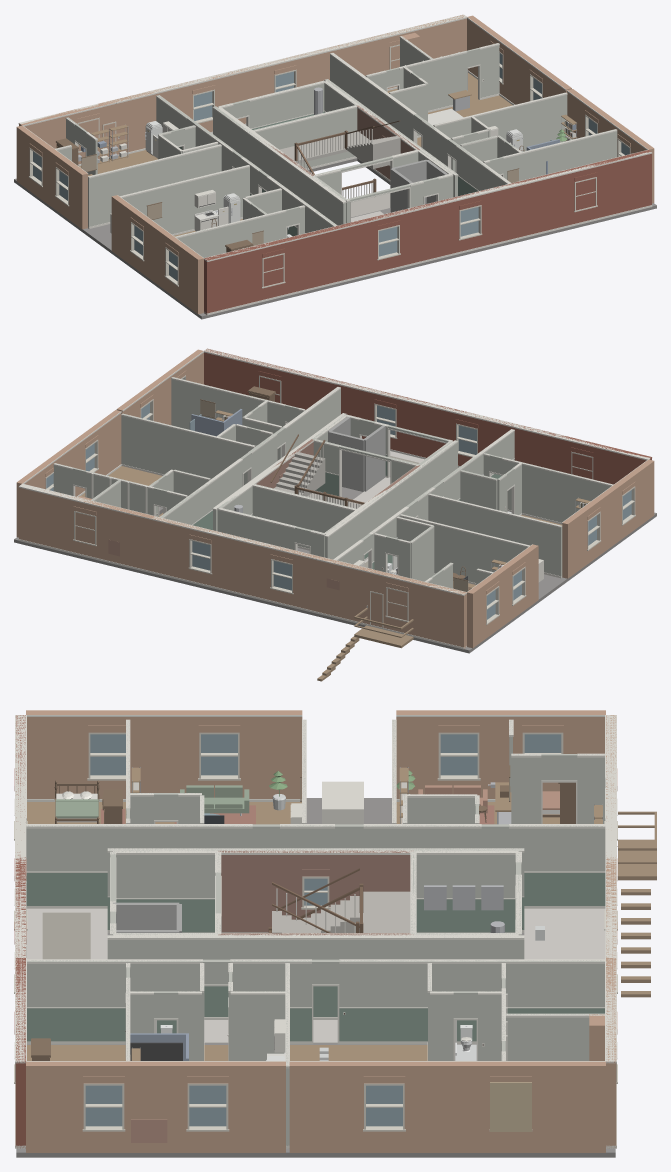
The model's file is floor_03.glb.
3 views of the same model, one above another, from view 1: azimuth 30°, elevation 25°; view 2: azimuth 150°, elevation 25°; view 3: azimuth 270°, elevation 25° (orthographic). The views are drawn at different scales.
Visible parts, largest first — view 1: F03_walls-col, F03_walls_cbrick-col, F03_walls_fbrick-col, F03_trim, F03_stone_trim-col, F03_slabs-col, F03_glazing-col, F03_stairs, F03_floors_floor_oak, F03_walls_conc-col, F03_walls_brick-col, F03_furnish_appliance (+8 smaller); view 2: F03_walls-col, F03_walls_cbrick-col, F03_trim, F03_walls_fbrick-col, F03_stone_trim-col, F03_glazing-col, F03_walls_conc-col, F03_slabs-col, F03_stairs, F03_furniture_timber-col, F03_wainscot, F03_furniture_fabric_cool-col (+4 smaller); view 3: F03_walls-col, F03_walls_cbrick-col, F03_trim, F03_wainscot, F03_walls_brick-col, F03_glazing-col, F03_floors_terrazzo, F03_floors_floor_oak, F03_stone_trim-col, F03_slabs-col, F03_stairs, F03_furniture_timber-col (+16 smaller).
Part boxes in pixels (bbox=[...]): F03_walls-col: bbox=[56, 36, 617, 257]; F03_walls_cbrick-col: bbox=[16, 15, 654, 314]; F03_walls_fbrick-col: bbox=[204, 150, 651, 314]; F03_trim: bbox=[18, 14, 652, 315]; F03_stone_trim-col: bbox=[28, 44, 630, 288]; F03_slabs-col: bbox=[14, 158, 656, 319]; F03_glazing-col: bbox=[33, 53, 629, 280]; F03_stairs: bbox=[280, 131, 400, 217]; F03_floors_floor_oak: bbox=[79, 73, 512, 236]; F03_walls_conc-col: bbox=[390, 159, 447, 212]; F03_walls_brick-col: bbox=[266, 105, 419, 179]; F03_furnish_appliance: bbox=[145, 121, 522, 223]; F03_walls-col: bbox=[53, 377, 610, 588]; F03_walls_cbrick-col: bbox=[16, 349, 654, 648]; F03_trim: bbox=[18, 348, 652, 649]; F03_walls_fbrick-col: bbox=[204, 348, 651, 484]; F03_stone_trim-col: bbox=[45, 375, 635, 629]; F03_glazing-col: bbox=[46, 403, 631, 619]; F03_walls_conc-col: bbox=[328, 416, 385, 491]; F03_slabs-col: bbox=[14, 487, 656, 653]; F03_stairs: bbox=[274, 452, 362, 508]; F03_furniture_timber-col: bbox=[317, 608, 413, 681]; F03_wainscot: bbox=[193, 455, 514, 569]; F03_furniture_fabric_cool-col: bbox=[191, 409, 242, 436]; F03_walls-col: bbox=[26, 720, 605, 1148]; F03_walls_cbrick-col: bbox=[26, 710, 617, 1152]; F03_trim: bbox=[15, 715, 616, 1148]; F03_wainscot: bbox=[26, 873, 605, 1041]; F03_walls_brick-col: bbox=[218, 850, 413, 935]; F03_glazing-col: bbox=[85, 734, 561, 1126]; F03_floors_terrazzo: bbox=[26, 908, 605, 1042]; F03_floors_floor_oak: bbox=[27, 802, 559, 1060]; F03_stone_trim-col: bbox=[14, 732, 617, 1131]; F03_slabs-col: bbox=[16, 798, 615, 1157]; F03_stairs: bbox=[272, 891, 410, 933]; F03_furniture_timber-col: bbox=[618, 811, 656, 997].
Size of what is drawn, in the model's own units: 28.11 by 7.42 by 21.4.
